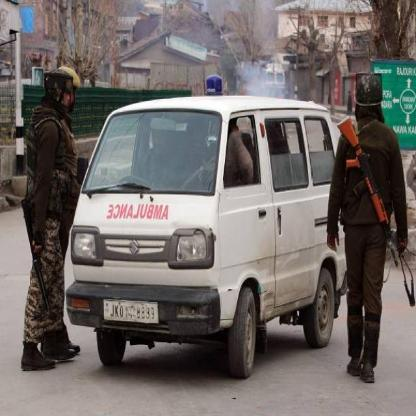priority: (67, 76, 357, 382)
